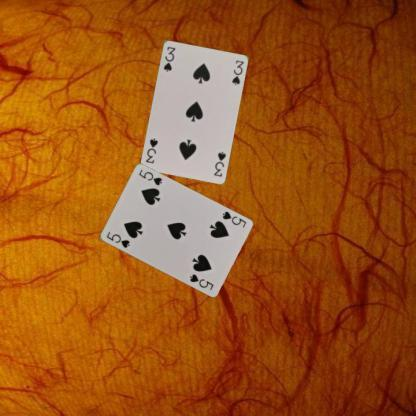3s: (211, 148, 227, 178), (160, 44, 176, 73)
5s: (220, 208, 247, 228), (104, 229, 130, 249)
